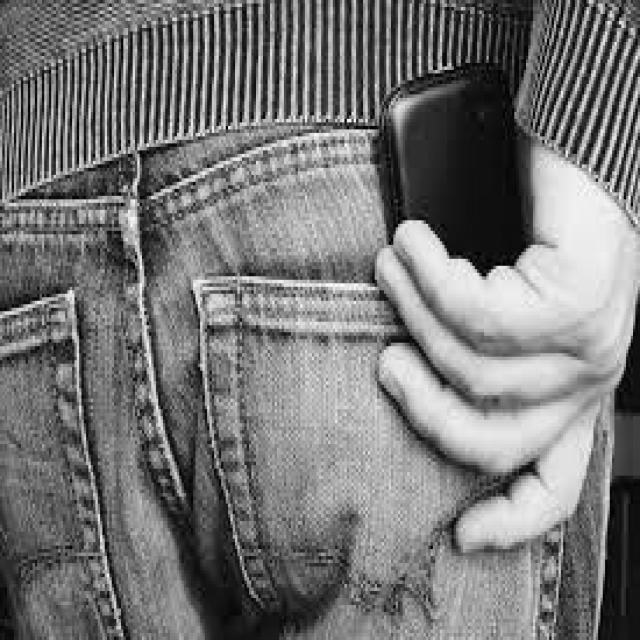No gun_phone: (382, 68, 530, 272)
